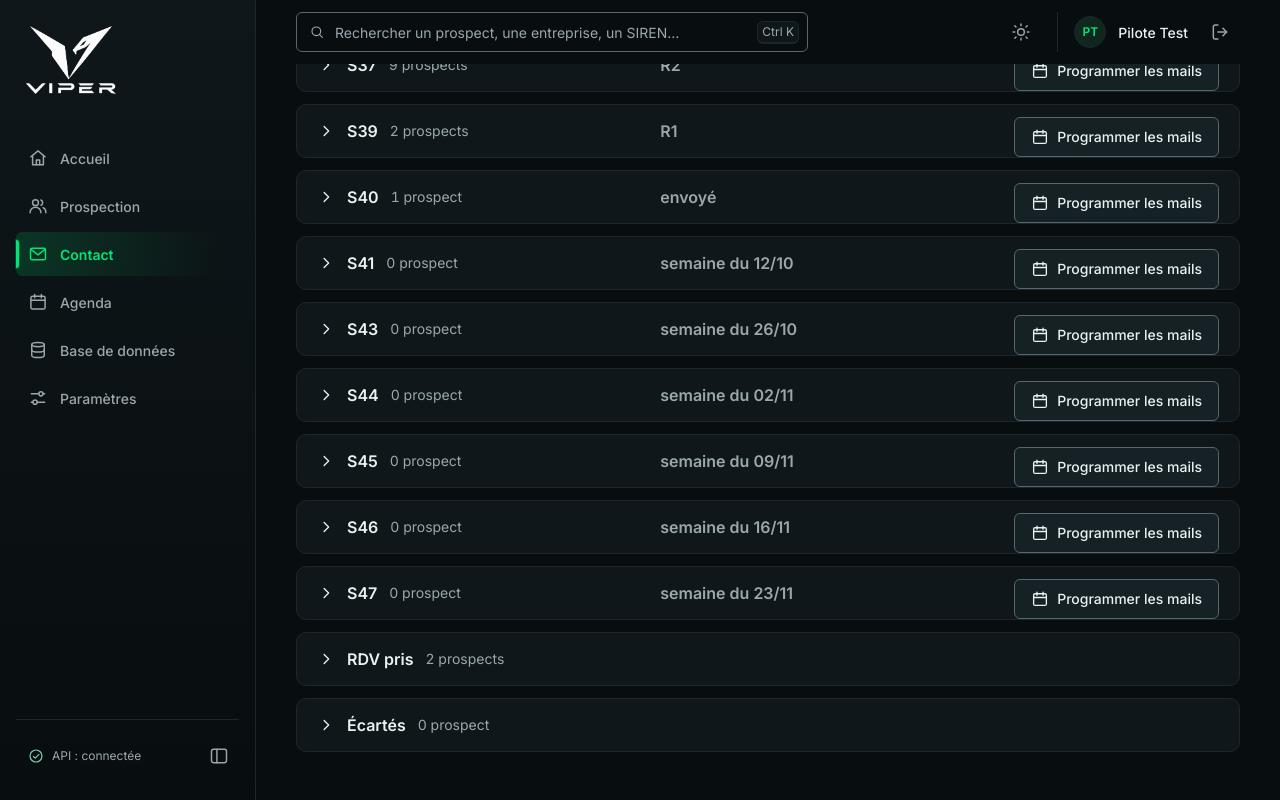
Test: Contact page › lists the people who took an appointment apart from their cohort
(page scrolled)
Click the button "RDV pris 2 prospects" at (380, 659), box [297,633,1239,685]
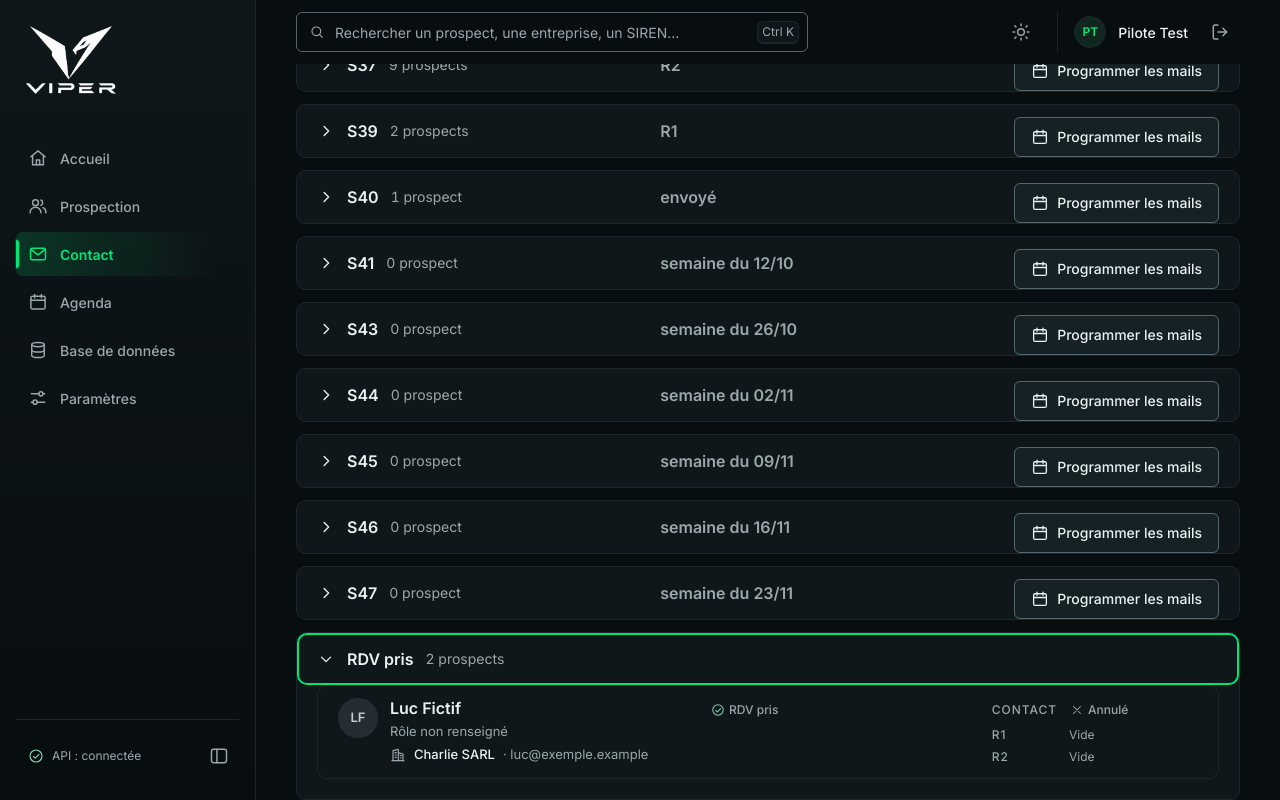
Now the link "Luc Fictif" is shown, box [390,698,461,718]
